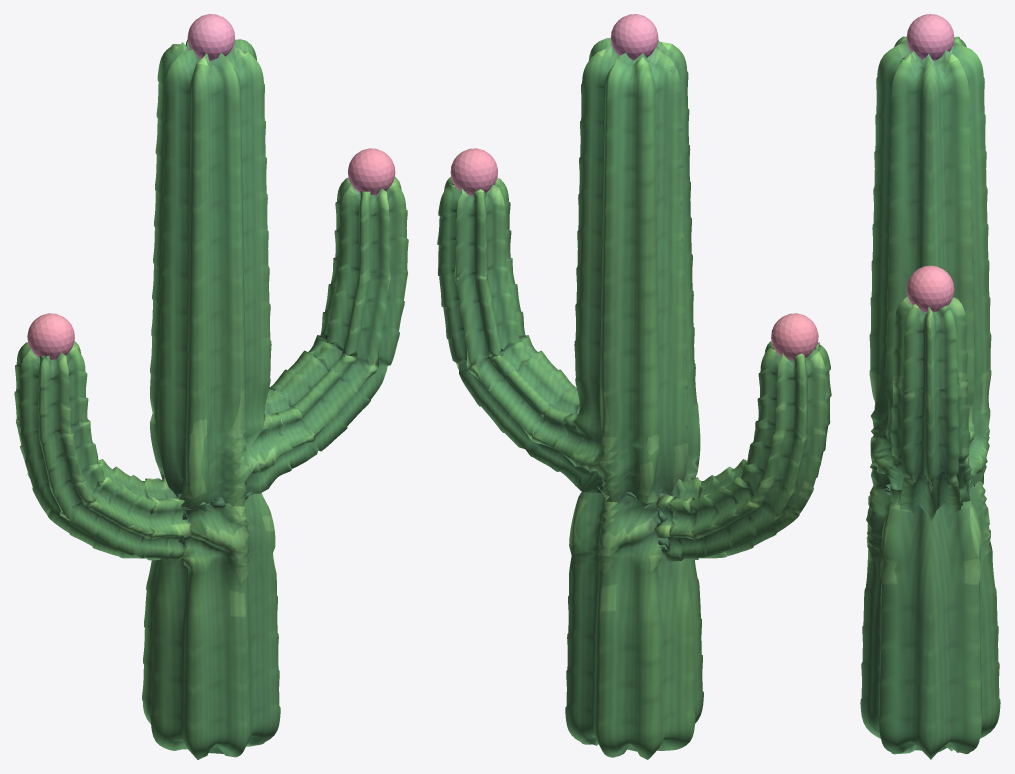
The model's file is WM_Cactus_B.fbx.
3 views of the same model, side by side, from view 1: azimuth 30°, elevation 25°; view 2: azimuth 150°, elevation 25°; view 3: azimuth 270°, elevation 25° (orthographic).
Visible parts, largest first — view 1: WM_Cactus_B_LOD0; view 2: WM_Cactus_B_LOD0; view 3: WM_Cactus_B_LOD0.
Part boxes in pixels (<box>): WM_Cactus_B_LOD0: <box>14,14,408,759</box>; WM_Cactus_B_LOD0: <box>437,14,831,759</box>; WM_Cactus_B_LOD0: <box>860,14,1000,759</box>.
Size of what is drawn, in the model's own units: 1.39 by 2.52 by 0.4392.
